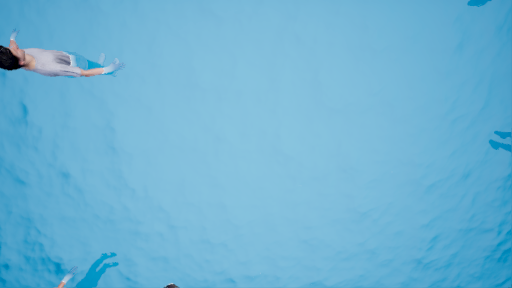person: (1, 32, 130, 92)
